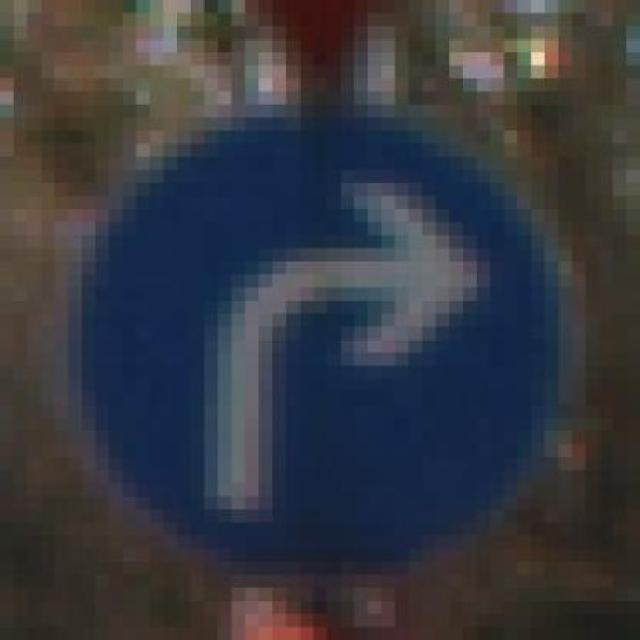Turn right ahead: (54, 91, 586, 574)
